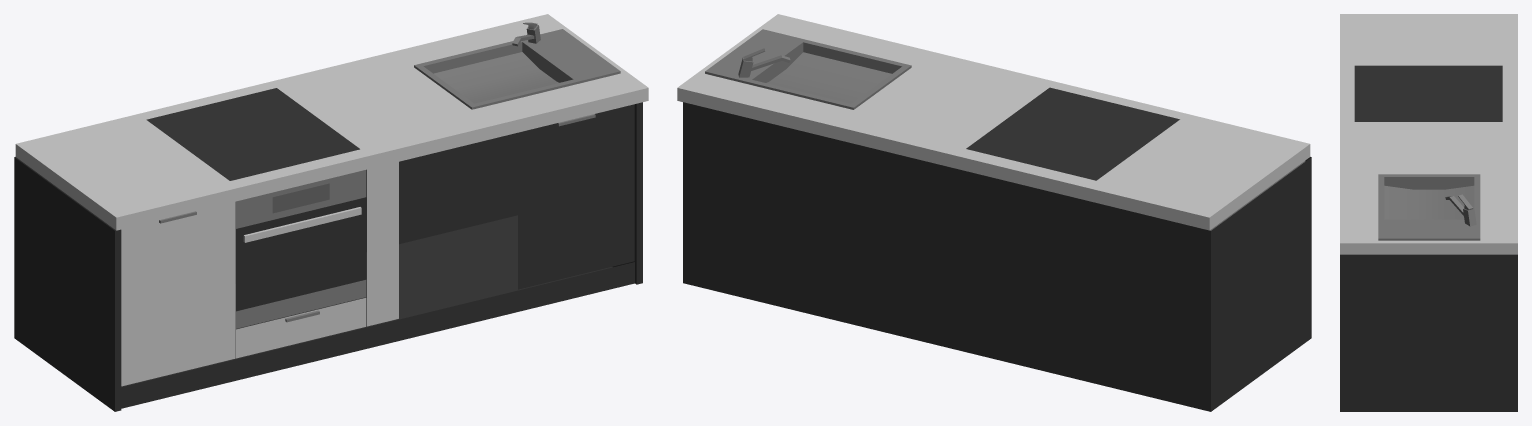
Rendered from Cocina.fbx.
The picture shows the model from 3 angles, left to right: view 1: azimuth 30°, elevation 25°; view 2: azimuth 150°, elevation 25°; view 3: azimuth 270°, elevation 25°; orthographic projection. The views are drawn at different scales.
Visible parts, largest first — view 1: Cocina; view 2: Cocina; view 3: Cocina.
Part boxes in pixels (<box>): Cocina: <box>14,14,648,411</box>; Cocina: <box>677,14,1311,411</box>; Cocina: <box>1340,14,1517,411</box>.
Bounding box in the file's own units: 310 × 123 × 102.
